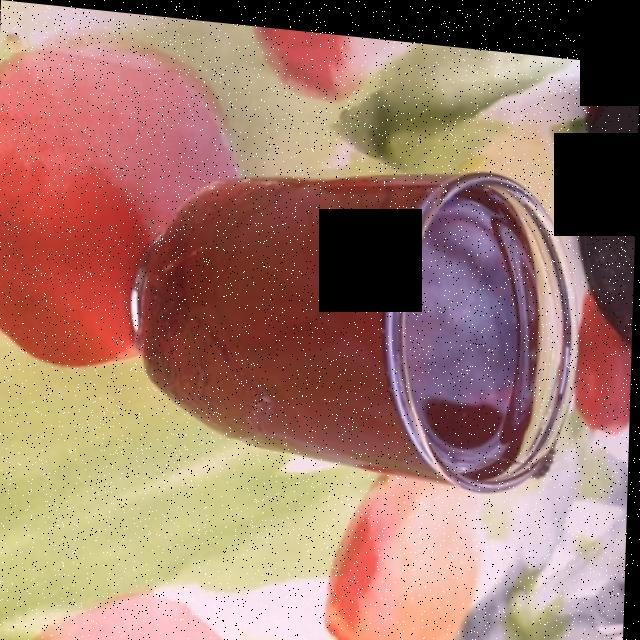tea: (139, 171, 550, 477)
